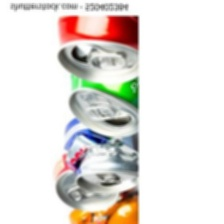can: (57, 116, 142, 197), (48, 15, 140, 86), (59, 74, 142, 139), (44, 152, 124, 213), (65, 191, 151, 223)
